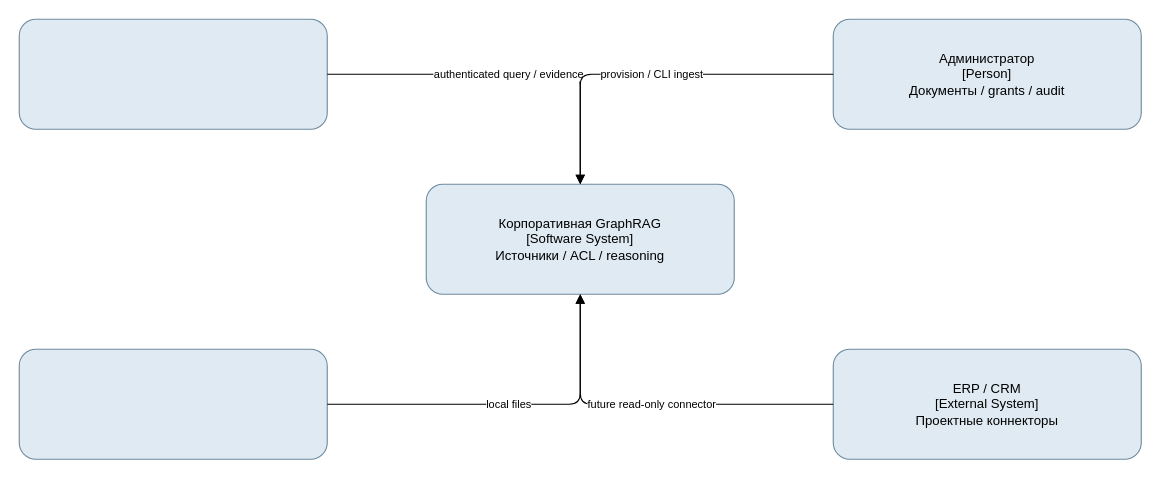
Some shapes in this 1161 by 479 pixel diagram are drawn without their labels. The box of each missing label's shape, as (x1, y1, x2, y2) in pixels:
Инженер A / B [Person] Поиск регламентов: (18, 18, 327, 129)
Файловый архив [External System] PDF / scans / Markdown: (18, 348, 327, 459)
